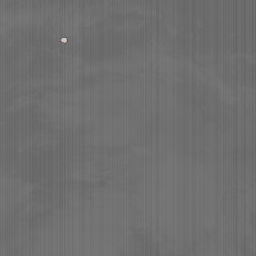Target: (60, 36, 67, 44)
